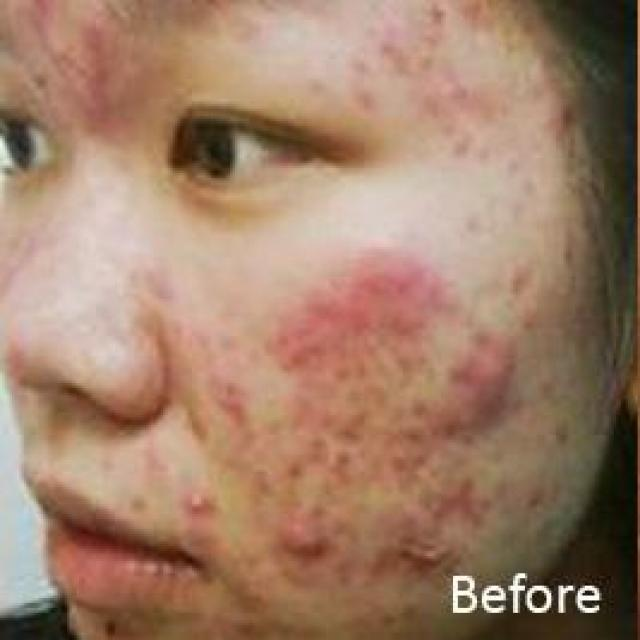Acne: (262, 236, 454, 377), (444, 325, 514, 448), (70, 15, 124, 121), (387, 46, 466, 118), (387, 396, 442, 464), (375, 529, 459, 571), (278, 437, 336, 492), (425, 472, 488, 522), (544, 83, 587, 152), (192, 383, 255, 430), (343, 51, 374, 108), (278, 529, 333, 561), (544, 414, 575, 468), (340, 418, 372, 468), (512, 260, 546, 300), (173, 494, 218, 524), (37, 5, 59, 50), (93, 618, 132, 640), (204, 318, 228, 352), (528, 494, 552, 524), (432, 2, 464, 24), (543, 370, 560, 402), (312, 79, 334, 94)
